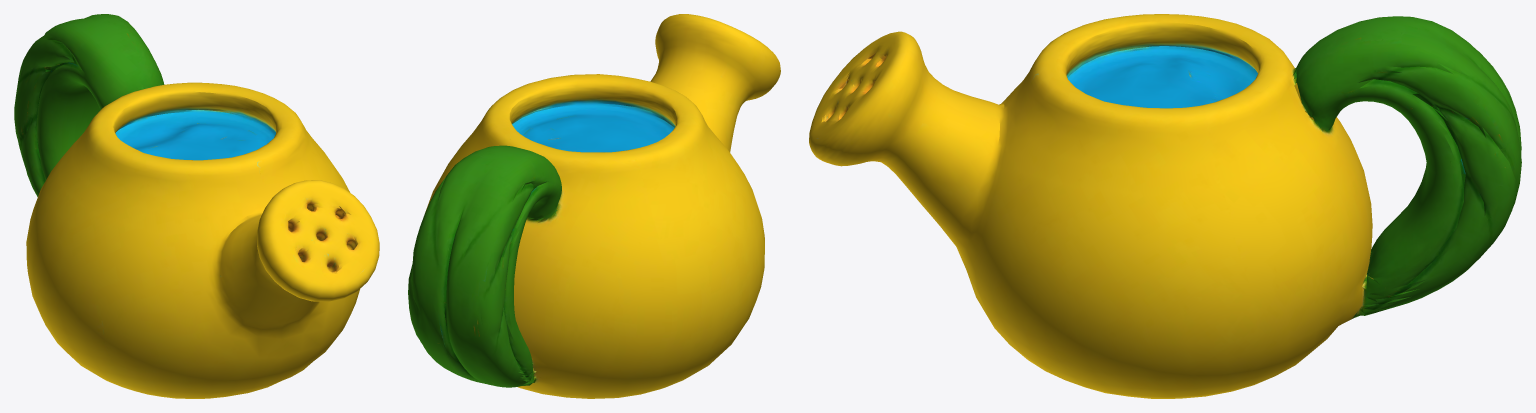
File: lemon-can.glb
The picture shows the model from 3 angles, left to right: view 1: azimuth 30°, elevation 25°; view 2: azimuth 150°, elevation 25°; view 3: azimuth 270°, elevation 25°; orthographic projection. The views are drawn at different scales.
Parts seen in each view (by area): view 1: Mesh_0; view 2: Mesh_0; view 3: Mesh_0.
Boxes of the visible parts, x1=… form: Mesh_0: x1=14, y1=14, x2=379, y2=398; Mesh_0: x1=408, y1=14, x2=780, y2=398; Mesh_0: x1=809, y1=14, x2=1521, y2=398.
Size of the model in its own units: 1.14 by 1 by 1.99.
1 material, 1 textured.
